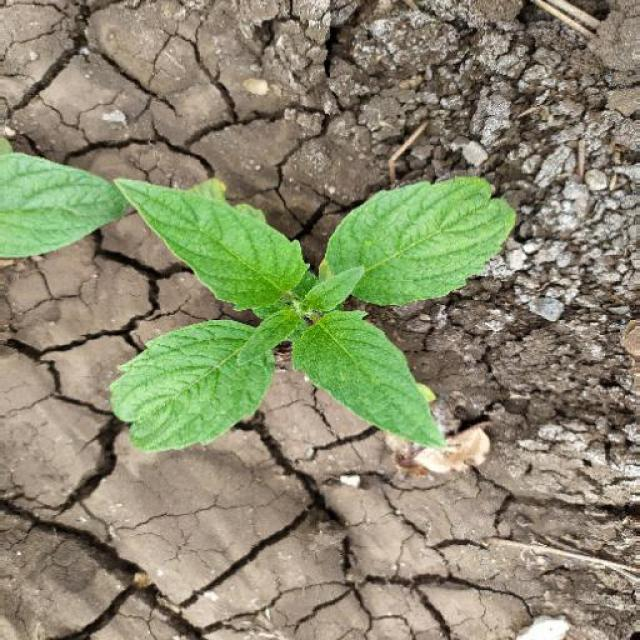crop: (120, 108, 524, 512)
